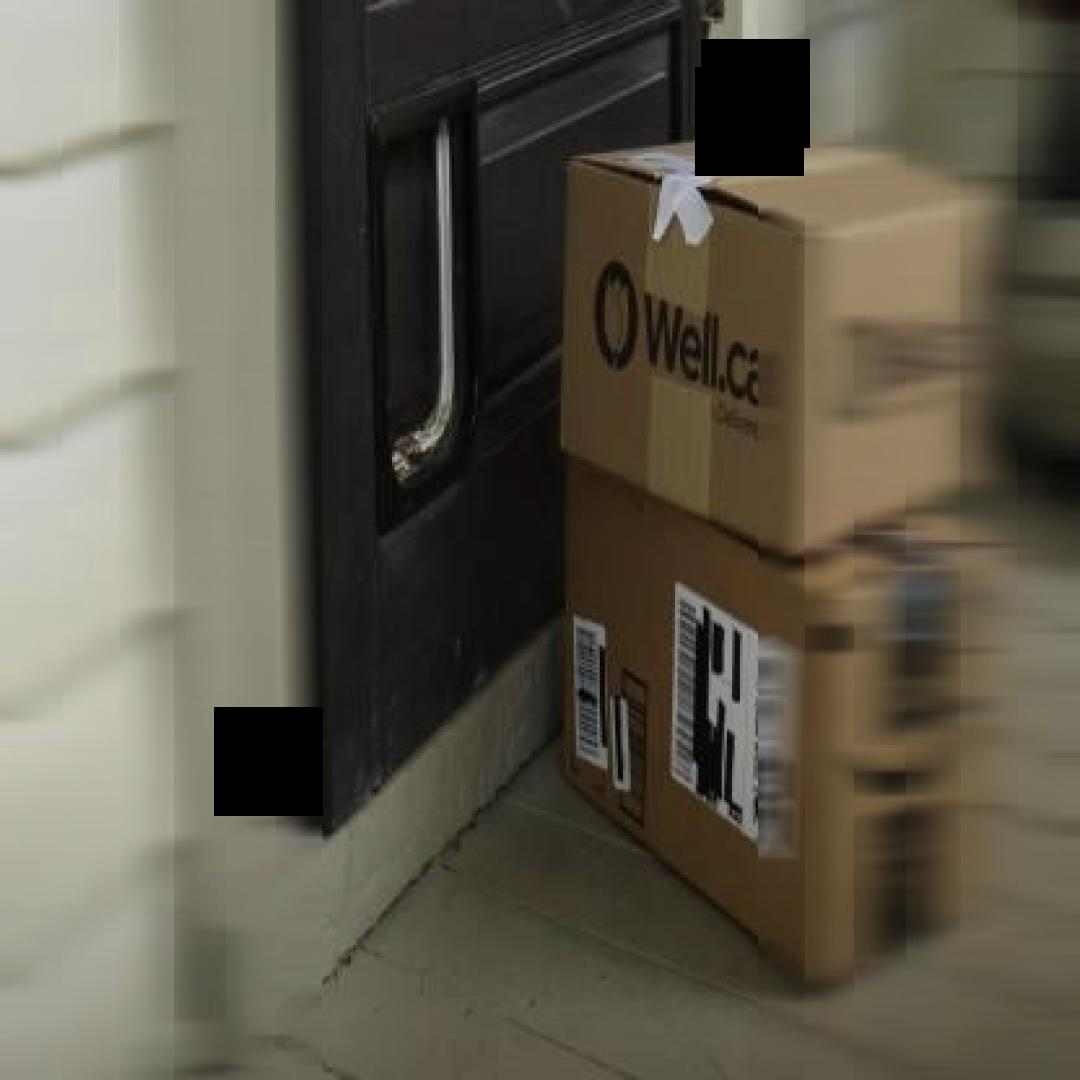package: (566, 446, 994, 1008), (548, 125, 992, 564)
